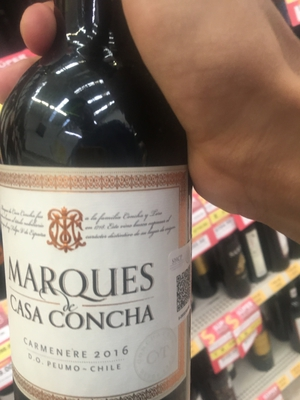marques de casa concha carmenere: (1, 18, 204, 400)
